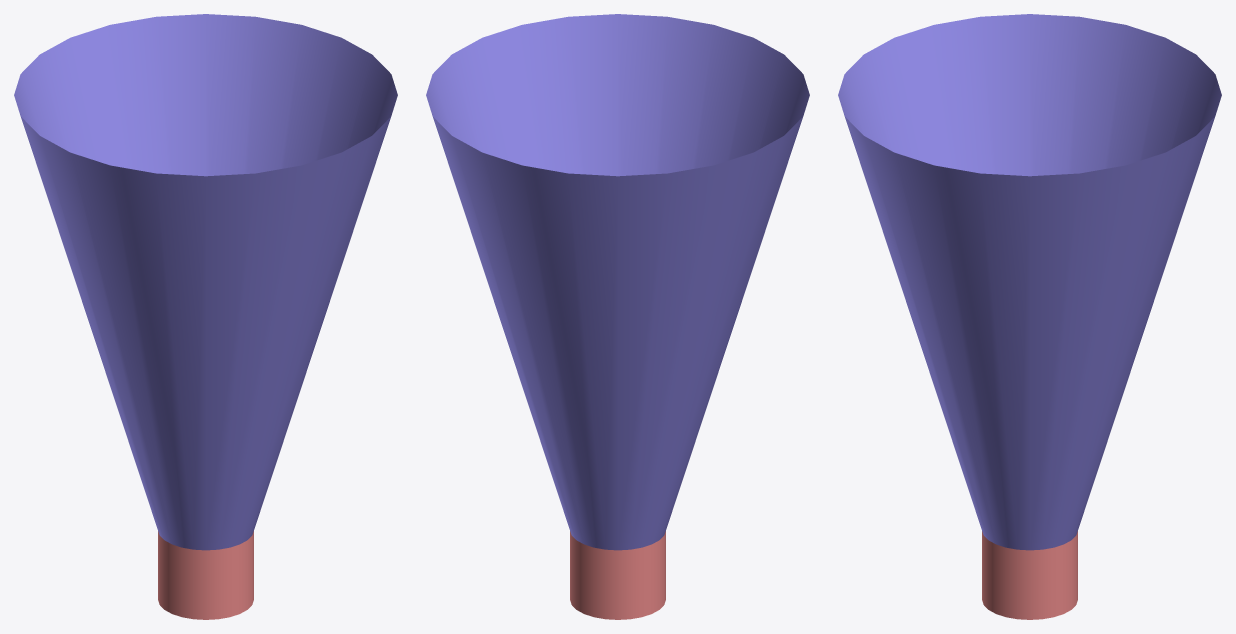
Rendered from Light_QianDeng2_1X1_on.FBX.
3 views of the same model, side by side, from view 1: azimuth 30°, elevation 25°; view 2: azimuth 150°, elevation 25°; view 3: azimuth 270°, elevation 25° (orthographic).
Parts seen in each view (by area): view 1: Box001; view 2: Box001; view 3: Box001.
Boxes of the visible parts, left/top/right/bottom form: Box001: left=14, top=14, right=397, bottom=619; Box001: left=426, top=14, right=809, bottom=619; Box001: left=838, top=14, right=1221, bottom=619.
Bounding box in the file's own units: 4 × 5.8 × 4.
